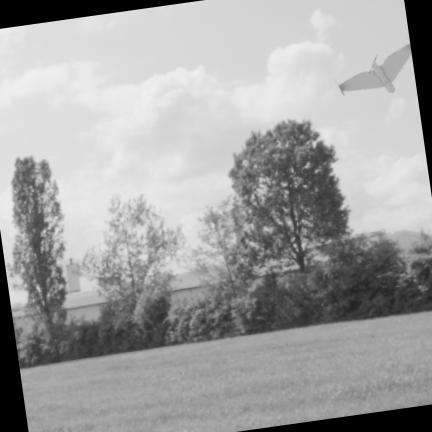Shahed: (337, 44, 411, 94)
